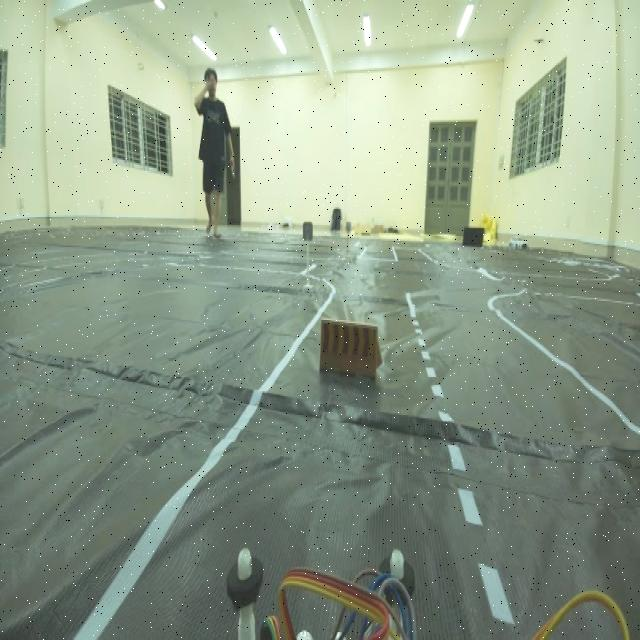roadblock: (316, 307, 388, 398)
